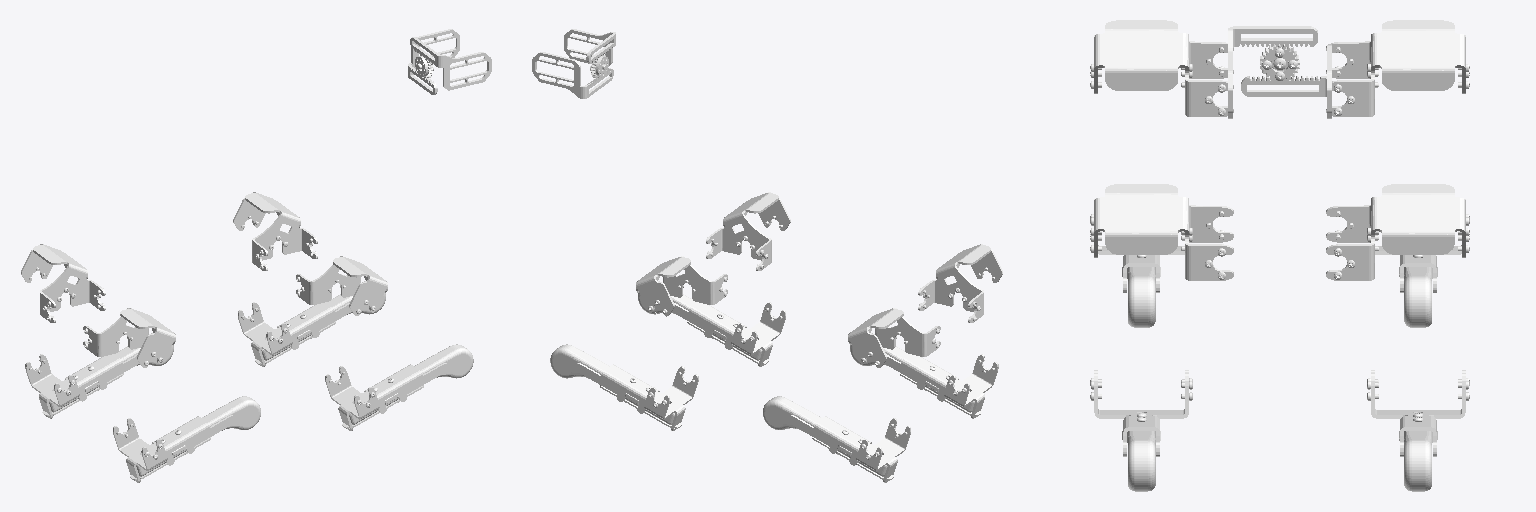
The robot description file, URDF, robot "mini2_description":
<?xml version="1.0" encoding="utf-8"?>
<!-- This URDF was automatically created by SolidWorks to URDF Exporter! Originally created by [author] ([email redacted]) 
     Commit Version: 1.6.0-1-g15f4949  Build Version: 1.6.7594.29634
     For more information, please see http://wiki.ros.org/sw_urdf_exporter -->
<robot
  name="mini2_description">
<!-- Used for fixing robot to Gazebo 'body_link' -->
  <link name="world"/>

  <joint name="world_fixed" type="fixed">
    <origin
      xyz="0 0 0.1"
      rpy="0 0 0" />
    <parent link="world"/>
    <child link="base_link"/>
  </joint>

  <link
    name="base_link">
    <inertial>
      <origin
        xyz="0.0244236973111199 -1.18543479083258E-05 0.00216186909321295"
        rpy="0 0 0" />
      <mass
        value="0.0903638663486848" />
      <inertia
        ixx="3.1165717171415E-05"
        ixy="5.90406353084212E-08"
        ixz="3.10782912189539E-07"
        iyy="0.000106657880847992"
        iyz="2.39226598820896E-09"
        izz="0.000122402395534927" />
    </inertial>
    <visual>
      <origin
        xyz="0 0 0"
        rpy="0 0 0" />
      <geometry>
        <mesh
          filename="package://mini2_description/meshes/base_link.STL" />
      </geometry>
      <material
        name="">
        <color
          rgba="1 1 1 1" />
      </material>
    </visual>
    <collision>
      <origin
        xyz="0 0 0"
        rpy="0 0 0" />
      <geometry>
        <mesh
          filename="package://mini2_description/meshes/base_link.STL" />
      </geometry>
    </collision>
  </link>
  <link name="imu_link">
    <inertial>
      <mass value="0.001"/>
      <origin rpy="0 0 0" xyz="0 0 0"/>
      <inertia ixx="1e-09" ixy="0.0" ixz="0.0" iyy="1e-09" iyz="0.0" izz="1e-09"/>
    </inertial>
  </link>
  <joint name="imu_joint" type="fixed">
    <parent link="base_link"/>
    <child link="imu_link"/>
  </joint>
  <link
    name="13_Link">
    <inertial>
      <origin
        xyz="0.0248280194388737 0.00902150780643676 0.00422313927973027"
        rpy="0 0 0" />
      <mass
        value="0.00753841426198611" />
      <inertia
        ixx="1.41466984431918E-06"
        ixy="-4.34670034449555E-07"
        ixz="-2.11581372888087E-07"
        iyy="2.57074817290843E-06"
        iyz="-9.80909593732643E-08"
        izz="2.19885431130067E-06" />
    </inertial>
    <visual>
      <origin
        xyz="0 0 0"
        rpy="0 0 0" />
      <geometry>
        <mesh
          filename="package://mini2_description/meshes/13_Link.STL" />
      </geometry>
      <material
        name="">
        <color
          rgba="1 1 1 1" />
      </material>
    </visual>
    <collision>
      <origin
        xyz="0 0 0"
        rpy="0 0 0" />
      <geometry>
        <mesh
          filename="package://mini2_description/meshes/13_Link.STL" />
      </geometry>
    </collision>
  </link>
  <joint
    name="13_Joint"
    type="continuous">
    <origin
      xyz="0.075 0.0225 0"
      rpy="1.5708 0 1.5708" />
    <parent
      link="base_link" />
    <child
      link="13_Link" />
    <axis
      xyz="0 0  1" />
  </joint>
  <link
    name="12_Link">
    <inertial>
      <origin
        xyz="0.0299500382842132 0.00278863986388048 0.000781254345677947"
        rpy="0 0 0" />
      <mass
        value="0.0113861104442955" />
      <inertia
        ixx="8.8274846767819E-07"
        ixy="1.70456968614513E-11"
        ixz="-5.54531137474986E-13"
        iyy="2.37552837358265E-06"
        iyz="2.17118765723791E-15"
        izz="2.23822862488442E-06" />
    </inertial>
    <visual>
      <origin
        xyz="0 0 0"
        rpy="0 0 0" />
      <geometry>
        <mesh
          filename="package://mini2_description/meshes/12_Link.STL" />
      </geometry>
      <material
        name="">
        <color
          rgba="1 1 1 1" />
      </material>
    </visual>
    <collision>
      <origin
        xyz="0 0 0"
        rpy="0 0 0" />
      <geometry>
        <mesh
          filename="package://mini2_description/meshes/12_Link.STL" />
      </geometry>
    </collision>
  </link>
  <joint
    name="12_Joint"
    type="continuous">
    <origin
      xyz="0.030988 0 0"
      rpy="-1.5708 0 -1.5708" />
    <parent
      link="13_Link" />
    <child
      link="12_Link" />
    <axis
      xyz="0 0  1" />
  </joint>
  <link
    name="11_Link">
    <inertial>
      <origin
        xyz="0.00664275467176662 -0.0381915924275808 -1.35558841929395E-09"
        rpy="0 0 0" />
      <mass
        value="0.0153098671259445" />
      <inertia
        ixx="7.28173977633567E-06"
        ixy="-1.72792899462682E-06"
        ixz="-4.63227423006185E-13"
        iyy="1.09060089074474E-06"
        iyz="-3.27598612704548E-13"
        izz="7.54879294562872E-06" />
    </inertial>
    <visual>
      <origin
        xyz="0 0 0"
        rpy="0 0 0" />
      <geometry>
        <mesh
          filename="package://mini2_description/meshes/11_Link.STL" />
      </geometry>
      <material
        name="">
        <color
          rgba="1 1 1 1" />
      </material>
    </visual>
    <collision>
      <origin
        xyz="0 0 0"
        rpy="0 0 0" />
      <geometry>
        <mesh
          filename="package://mini2_description/meshes/11_Link.STL" />
      </geometry>
    </collision>
  </link>
  <joint
    name="11_Joint"
    type="continuous">
    <origin
      xyz="0.0599 0 0"
      rpy="0 0 0" />
    <parent
      link="12_Link" />
    <child
      link="11_Link" />
    <axis
      xyz="0 0  1" />
  </joint>
  <link
    name="23_Link">
    <inertial>
      <origin
        xyz="-0.00902149882128787 -0.0248280149220554 0.00422313254240891"
        rpy="0 0 0" />
      <mass
        value="0.00753841291835744" />
      <inertia
        ixx="2.57074897217913E-06"
        ixy="-4.34670427001712E-07"
        ixz="9.80904660290261E-08"
        iyy="1.41466883651307E-06"
        iyz="2.1158163905561E-07"
        izz="2.19885444494647E-06" />
    </inertial>
    <visual>
      <origin
        xyz="0 0 0"
        rpy="0 0 0" />
      <geometry>
        <mesh
          filename="package://mini2_description/meshes/23_Link.STL" />
      </geometry>
      <material
        name="">
        <color
          rgba="1 1 1 1" />
      </material>
    </visual>
    <collision>
      <origin
        xyz="0 0 0"
        rpy="0 0 0" />
      <geometry>
        <mesh
          filename="package://mini2_description/meshes/23_Link.STL" />
      </geometry>
    </collision>
  </link>
  <joint
    name="23_Joint"
    type="continuous">
    <origin
      xyz="0.075 -0.0225000398533523 0"
      rpy="0 1.5707963267949 0" />
    <parent
      link="base_link" />
    <child
      link="23_Link" />
    <axis
      xyz="0 0  1" />
  </joint>
  <link
    name="22_Link">
    <inertial>
      <origin
        xyz="0.0299500195755494 0.00278865061118515 -0.000781232629103762"
        rpy="0 0 0" />
      <mass
        value="0.0113861476387173" />
      <inertia
        ixx="8.82741917396447E-07"
        ixy="2.2691552768709E-11"
        ixz="-4.90122018356969E-13"
        iyy="2.37552727000979E-06"
        iyz="5.55387173553793E-15"
        izz="2.23823235437804E-06" />
    </inertial>
    <visual>
      <origin
        xyz="0 0 0"
        rpy="0 0 0" />
      <geometry>
        <mesh
          filename="package://mini2_description/meshes/22_Link.STL" />
      </geometry>
      <material
        name="">
        <color
          rgba="1 1 1 1" />
      </material>
    </visual>
    <collision>
      <origin
        xyz="0 0 0"
        rpy="0 0 0" />
      <geometry>
        <mesh
          filename="package://mini2_description/meshes/22_Link.STL" />
      </geometry>
    </collision>
  </link>
  <joint
    name="22_Joint"
    type="continuous">
    <origin
      xyz="0 -0.0309880541805861 0"
      rpy="-1.57079632679488 0 0" />
    <parent
      link="23_Link" />
    <child
      link="22_Link" />
    <axis
      xyz="0 0  1" />
  </joint>
  <link
    name="21_Link">
    <inertial>
      <origin
        xyz="0.00664275942926147 -0.0381915727668842 -1.39671030158217E-08"
        rpy="0 0 0" />
      <mass
        value="0.0153098502146296" />
      <inertia
        ixx="7.28173660879263E-06"
        ixy="-1.72792711230226E-06"
        ixz="-8.97883517326497E-13"
        iyy="1.09060159443016E-06"
        iyz="-4.59761514938139E-12"
        izz="7.54879088872956E-06" />
    </inertial>
    <visual>
      <origin
        xyz="0 0 0"
        rpy="0 0 0" />
      <geometry>
        <mesh
          filename="package://mini2_description/meshes/21_Link.STL" />
      </geometry>
      <material
        name="">
        <color
          rgba="1 1 1 1" />
      </material>
    </visual>
    <collision>
      <origin
        xyz="0 0 0"
        rpy="0 0 0" />
      <geometry>
        <mesh
          filename="package://mini2_description/meshes/21_Link.STL" />
      </geometry>
    </collision>
  </link>
  <joint
    name="21_Joint"
    type="continuous">
    <origin
      xyz="0.0599000797066995 0 0"
      rpy="0 0 0" />
    <parent
      link="22_Link" />
    <child
      link="21_Link" />
    <axis
      xyz="0 0  1" />
  </joint>
  <link
    name="33_Link">
    <inertial>
      <origin
        xyz="-0.00902149882128814 -0.0248280149220534 0.00422313254241374"
        rpy="0 0 0" />
      <mass
        value="0.00753841291835745" />
      <inertia
        ixx="2.57074897217914E-06"
        ixy="-4.34670427001711E-07"
        ixz="9.80904660290273E-08"
        iyy="1.41466883651307E-06"
        iyz="2.11581639055611E-07"
        izz="2.19885444494647E-06" />
    </inertial>
    <visual>
      <origin
        xyz="0 0 0"
        rpy="0 0 0" />
      <geometry>
        <mesh
          filename="package://mini2_description/meshes/33_Link.STL" />
      </geometry>
      <material
        name="">
        <color
          rgba="1 1 1 1" />
      </material>
    </visual>
    <collision>
      <origin
        xyz="0 0 0"
        rpy="0 0 0" />
      <geometry>
        <mesh
          filename="package://mini2_description/meshes/33_Link.STL" />
      </geometry>
    </collision>
  </link>
  <joint
    name="33_Joint"
    type="continuous">
    <origin
      xyz="-0.075 -0.0225000398533512 0"
      rpy="0 1.5707963267949 0" />
    <parent
      link="base_link" />
    <child
      link="33_Link" />
    <axis
      xyz="0 0  1" />
  </joint>
  <link
    name="32_Link">
    <inertial>
      <origin
        xyz="0.0299500359079056 0.00278865255150929 -0.000781238975794393"
        rpy="0 0 0" />
      <mass
        value="0.0113861392484884" />
      <inertia
        ixx="8.82741864071183E-07"
        ixy="2.26994650204806E-11"
        ixz="-5.36563810036175E-13"
        iyy="2.37552718141011E-06"
        iyz="1.08306138546267E-15"
        izz="2.23823228203629E-06" />
    </inertial>
    <visual>
      <origin
        xyz="0 0 0"
        rpy="0 0 0" />
      <geometry>
        <mesh
          filename="package://mini2_description/meshes/32_Link.STL" />
      </geometry>
      <material
        name="">
        <color
          rgba="1 1 1 1" />
      </material>
    </visual>
    <collision>
      <origin
        xyz="0 0 0"
        rpy="0 0 0" />
      <geometry>
        <mesh
          filename="package://mini2_description/meshes/32_Link.STL" />
      </geometry>
    </collision>
  </link>
  <joint
    name="32_Joint"
    type="continuous">
    <origin
      xyz="0 -0.0309880541805845 0"
      rpy="-1.57079632679488 0 0" />
    <parent
      link="33_Link" />
    <child
      link="32_Link" />
    <axis
      xyz="0 0  1" />
  </joint>
  <link
    name="31_Link">
    <inertial>
      <origin
        xyz="0.00664275942886895 -0.0381915727801102 -1.39647855362801E-08"
        rpy="0 0 0" />
      <mass
        value="0.0153098502269143" />
      <inertia
        ixx="7.28173661196616E-06"
        ixy="-1.72792711238622E-06"
        ixz="-8.97900888843362E-13"
        iyy="1.09060159455208E-06"
        iyz="-4.59704907889622E-12"
        izz="7.54879089188839E-06" />
    </inertial>
    <visual>
      <origin
        xyz="0 0 0"
        rpy="0 0 0" />
      <geometry>
        <mesh
          filename="package://mini2_description/meshes/31_Link.STL" />
      </geometry>
      <material
        name="">
        <color
          rgba="1 1 1 1" />
      </material>
    </visual>
    <collision>
      <origin
        xyz="0 0 0"
        rpy="0 0 0" />
      <geometry>
        <mesh
          filename="package://mini2_description/meshes/31_Link.STL" />
      </geometry>
    </collision>
  </link>
  <joint
    name="31_Joint"
    type="continuous">
    <origin
      xyz="0.0599000797066995 0 0"
      rpy="0 0 0" />
    <parent
      link="32_Link" />
    <child
      link="31_Link" />
    <axis
      xyz="0 0  1" />
  </joint>
  <link
    name="43_Link">
    <inertial>
      <origin
        xyz="-0.00902150780643703 0.0248280194388716 0.00422313927973639"
        rpy="0 0 0" />
      <mass
        value="0.00753841426198606" />
      <inertia
        ixx="2.57074817290842E-06"
        ixy="4.34670034449559E-07"
        ixz="9.80909593732633E-08"
        iyy="1.41466984431917E-06"
        iyz="-2.11581372888085E-07"
        izz="2.19885431130066E-06" />
    </inertial>
    <visual>
      <origin
        xyz="0 0 0"
        rpy="0 0 0" />
      <geometry>
        <mesh
          filename="package://mini2_description/meshes/43_Link.STL" />
      </geometry>
      <material
        name="">
        <color
          rgba="1 1 1 1" />
      </material>
    </visual>
    <collision>
      <origin
        xyz="0 0 0"
        rpy="0 0 0" />
      <geometry>
        <mesh
          filename="package://mini2_description/meshes/43_Link.STL" />
      </geometry>
    </collision>
  </link>
  <joint
    name="43_Joint"
    type="continuous">
    <origin
      xyz="-0.075 0.0225000398533488 0"
      rpy="0 1.5707963267949 0" />
    <parent
      link="base_link" />
    <child
      link="43_Link" />
    <axis
      xyz="0 0  1" />
  </joint>
  <link
    name="42_Link">
    <inertial>
      <origin
        xyz="0.0299500438125054 0.00278863921174038 0.000781256348017623"
        rpy="0 0 0" />
      <mass
        value="0.0113861123425769" />
      <inertia
        ixx="8.82748501091515E-07"
        ixy="1.69846167849517E-11"
        ixz="-5.16154756727328E-13"
        iyy="2.37552845343969E-06"
        iyz="7.26530034557828E-16"
        izz="2.23822873857817E-06" />
    </inertial>
    <visual>
      <origin
        xyz="0 0 0"
        rpy="0 0 0" />
      <geometry>
        <mesh
          filename="package://mini2_description/meshes/42_Link.STL" />
      </geometry>
      <material
        name="">
        <color
          rgba="1 1 1 1" />
      </material>
    </visual>
    <collision>
      <origin
        xyz="0 0 0"
        rpy="0 0 0" />
      <geometry>
        <mesh
          filename="package://mini2_description/meshes/42_Link.STL" />
      </geometry>
    </collision>
  </link>
  <joint
    name="42_Joint"
    type="continuous">
    <origin
      xyz="0 0.03098805418059 0"
      rpy="-1.57079632679488 0 0" />
    <parent
      link="43_Link" />
    <child
      link="42_Link" />
    <axis
      xyz="0 0  1" />
  </joint>
  <link
    name="41_Link">
    <inertial>
      <origin
        xyz="0.00664275467193516 -0.0381915928444575 -1.28866987914034E-09"
        rpy="0 0 0" />
      <mass
        value="0.0153098673781372" />
      <inertia
        ixx="7.28173993438346E-06"
        ixy="-1.72792899593328E-06"
        ixz="-4.629564354771E-13"
        iyy="1.09060089512517E-06"
        iyz="-3.01324069572266E-13"
        izz="7.54879309900224E-06" />
    </inertial>
    <visual>
      <origin
        xyz="0 0 0"
        rpy="0 0 0" />
      <geometry>
        <mesh
          filename="package://mini2_description/meshes/41_Link.STL" />
      </geometry>
      <material
        name="">
        <color
          rgba="1 1 1 1" />
      </material>
    </visual>
    <collision>
      <origin
        xyz="0 0 0"
        rpy="0 0 0" />
      <geometry>
        <mesh
          filename="package://mini2_description/meshes/41_Link.STL" />
      </geometry>
    </collision>
  </link>
  <joint
    name="41_Joint"
    type="continuous">
    <origin
      xyz="0.0599000797066993 0 0"
      rpy="0 0 0" />
    <parent
      link="42_Link" />
    <child
      link="41_Link" />
    <axis
      xyz="0 0  1" />
  </joint>
  <link
    name="53_Link">
    <inertial>
      <origin
        xyz="-0.0299500408748984 0.00278863968474263 0.000756254106578605"
        rpy="0 0 0" />
      <mass
        value="0.0113861109184074" />
      <inertia
        ixx="8.8274847658028E-07"
        ixy="1.70465094959684E-11"
        ixz="-5.53980250412205E-13"
        iyy="2.37552837874193E-06"
        iyz="2.679275013287E-15"
        izz="2.23822863876479E-06" />
    </inertial>
    <visual>
      <origin
        xyz="0 0 0"
        rpy="3.1416 0 0" />
      <geometry>
        <mesh
          filename="package://mini2_description/meshes/53_Link.STL" />
      </geometry>
      <material
        name="">
        <color
          rgba="1 1 1 1" />
      </material>
    </visual>
    <collision>
      <origin
        xyz="0 0 0"
        rpy="0 0 0" />
      <geometry>
        <mesh
          filename="package://mini2_description/meshes/53_Link.STL" />
      </geometry>
    </collision>
  </link>
  <joint
    name="53_Joint"
    type="continuous">
    <origin
      xyz="0.0817510268642972 0 0.0378543330962328"
      rpy="1.57079632679488 1.5707963267949 0" />
    <parent
      link="base_link" />
    <child
      link="53_Link" />
    <axis
      xyz="0 0  1" />
  </joint>
  <link
    name="52_Link">
    <inertial>
      <origin
        xyz="-0.0187892739076206 -0.0338603318634318 -3.92639937411808E-05"
        rpy="0 0 0" />
      <mass
        value="0.0148330426207503" />
      <inertia
        ixx="3.01305231852195E-06"
        ixy="-2.65003761424246E-07"
        ixz="8.46914201667833E-12"
        iyy="1.09918857594476E-06"
        iyz="-4.9217583562805E-12"
        izz="3.06331536234519E-06" />
    </inertial>
    <visual>
      <origin
        xyz="0 0 0"
        rpy="0 0 0" />
      <geometry>
        <mesh
          filename="package://mini2_description/meshes/52_Link.STL" />
      </geometry>
      <material
        name="">
        <color
          rgba="1 1 1 1" />
      </material>
    </visual>
    <collision>
      <origin
        xyz="0 0 0"
        rpy="0 0 0" />
      <geometry>
        <mesh
          filename="package://mini2_description/meshes/52_Link.STL" />
      </geometry>
    </collision>
  </link>
  <joint
    name="52_Joint"
    type="continuous">
    <origin
      xyz="-0.0599000797066993 0 0"
      rpy="3.1416 0 0" />
    <parent
      link="53_Link" />
    <child
      link="52_Link" />
    <axis
      xyz="0 0  1" />
  </joint>
  <link
    name="51_Link">
    <inertial>
      <origin
        xyz="-1.16778674230655E-09 -2.04686758167871E-09 -0.00208665364177515"
        rpy="0 0 0" />
      <mass
        value="0.000719672080560025" />
      <inertia
        ixx="8.90538782569087E-09"
        ixy="-4.86887856334375E-13"
        ixz="5.07468190192859E-16"
        iyy="8.90502666587485E-09"
        iyz="6.11687760319459E-16"
        izz="1.59175104815061E-08" />
    </inertial>
    <visual>
      <origin
        xyz="0 0 0"
        rpy="0 0 0" />
      <geometry>
        <mesh
          filename="package://mini2_description/meshes/51_Link.STL" />
      </geometry>
      <material
        name="">
        <color
          rgba="1 1 1 1" />
      </material>
    </visual>
    <collision>
      <origin
        xyz="0 0 0"
        rpy="0 0 0" />
      <geometry>
        <mesh
          filename="package://mini2_description/meshes/51_Link.STL" />
      </geometry>
    </collision>
  </link>
  <joint
    name="51_Joint"
    type="continuous">
    <origin
      xyz="-0.018371 -0.0783 -2.5E-05"
      rpy="-1.5708 0 -3.1416" />
    <parent
      link="52_Link" />
    <child
      link="51_Link" />
    <axis
      xyz="0 0  1" />
  </joint>
  <link
    name="50_Link">
    <inertial>
      <origin
        xyz="-0.00459436196189859 0.00983058256711414 0.00450764373303642"
        rpy="0 0 0" />
      <mass
        value="0.00096518203674629" />
      <inertia
        ixx="2.28634282389431E-07"
        ixy="4.37714130906999E-08"
        ixz="3.29944701810298E-08"
        iyy="1.47678770055442E-07"
        iyz="-5.64255427630419E-08"
        izz="1.91146220698636E-07" />
    </inertial>
    <visual>
      <origin
        xyz="0 0 0"
        rpy="0 0 0" />
      <geometry>
        <mesh
          filename="package://mini2_description/meshes/50_Link.STL" />
      </geometry>
      <material
        name="">
        <color
          rgba="1 1 1 1" />
      </material>
    </visual>
    <collision>
      <origin
        xyz="0 0 0"
        rpy="0 0 0" />
      <geometry>
        <mesh
          filename="package://mini2_description/meshes/50_Link.STL" />
      </geometry>
    </collision>
  </link>
  <joint
    name="50_Joint"
    type="prismatic">
    <origin
      xyz="-0.018371 -0.096345 -0.018125"
      rpy="0 0 0" />
    <parent
      link="52_Link" />
    <child
      link="50_Link" />
    <axis
      xyz="0 0 1" />
    <limit
      lower="0"
      upper="0"
      effort="0"
      velocity="0" />
    <mimic
      joint="51_Joint"
      multiplier="0.072"
      offset="0" />
  </joint>
  <link
    name="500_Link">
    <inertial>
      <origin
        xyz="0.00459436196189864 0.00983058256711407 -0.0045076437330364"
        rpy="0 0 0" />
      <mass
        value="0.000965182036746288" />
      <inertia
        ixx="2.28634282389431E-07"
        ixy="-4.37714130906999E-08"
        ixz="3.299447018103E-08"
        iyy="1.47678770055441E-07"
        iyz="5.64255427630418E-08"
        izz="1.91146220698636E-07" />
    </inertial>
    <visual>
      <origin
        xyz="0 0 0"
        rpy="0 0 0" />
      <geometry>
        <mesh
          filename="package://mini2_description/meshes/500_Link.STL" />
      </geometry>
      <material
        name="">
        <color
          rgba="1 1 1 1" />
      </material>
    </visual>
    <collision>
      <origin
        xyz="0 0 0"
        rpy="0 0 0" />
      <geometry>
        <mesh
          filename="package://mini2_description/meshes/500_Link.STL" />
      </geometry>
    </collision>
  </link>
  <joint
    name="500_Joint"
    type="prismatic">
    <origin
      xyz="-0.018371 -0.096345 0.018075"
      rpy="0 0 0" />
    <parent
      link="52_Link" />
    <child
      link="500_Link" />
    <axis
      xyz="0 0 1" />
    <limit
      lower="0"
      upper="0"
      effort="0"
      velocity="0" />
    <mimic
      joint="51_Joint"
      multiplier="-0.072"
      offset="0" />
  </joint>
</robot>

--- Facts derived from the render (not from the file) ---
The picture shows the robot from 3 angles, left to right: view 1: azimuth 30°, elevation 25°; view 2: azimuth 150°, elevation 25°; view 3: azimuth 270°, elevation 25°; orthographic projection.
Robot: mini2_description — 20 links, 19 joints (15 continuous, 2 prismatic, 2 fixed); root link world; default pose: all joints at 0.
Links seen in each view (by area): view 1: 21_Link, 31_Link, 11_Link, 41_Link, 13_Link, 43_Link, 33_Link, 23_Link, 50_Link, 500_Link; view 2: 11_Link, 41_Link, 21_Link, 31_Link, 23_Link, 33_Link, 43_Link, 13_Link, 500_Link, 50_Link; view 3: 13_Link, 23_Link, 43_Link, 33_Link, 11_Link, 21_Link, 31_Link, 41_Link, 50_Link, 500_Link, 51_Link.
Boxes of the visible links, x1=… form: 21_Link: x1=325, y1=344, x2=473, y2=430; 31_Link: x1=113, y1=396, x2=260, y2=482; 11_Link: x1=238, y1=281, x2=385, y2=366; 41_Link: x1=25, y1=333, x2=173, y2=418; 13_Link: x1=233, y1=192, x2=317, y2=270; 43_Link: x1=21, y1=244, x2=105, y2=322; 33_Link: x1=83, y1=308, x2=175, y2=367; 23_Link: x1=296, y1=256, x2=387, y2=315; 50_Link: x1=410, y1=37, x2=491, y2=90; 500_Link: x1=408, y1=29, x2=459, y2=94; 11_Link: x1=550, y1=344, x2=698, y2=430; 41_Link: x1=763, y1=396, x2=910, y2=482; 21_Link: x1=638, y1=281, x2=785, y2=366; 31_Link: x1=850, y1=333, x2=998, y2=418; 23_Link: x1=706, y1=192, x2=790, y2=270; 33_Link: x1=918, y1=244, x2=1002, y2=322; 43_Link: x1=848, y1=308, x2=940, y2=367; 13_Link: x1=636, y1=256, x2=727, y2=316; 500_Link: x1=532, y1=52, x2=613, y2=98; 50_Link: x1=564, y1=29, x2=615, y2=65; 13_Link: x1=1326, y1=184, x2=1469, y2=280; 23_Link: x1=1090, y1=184, x2=1233, y2=280; 43_Link: x1=1326, y1=20, x2=1469, y2=116; 33_Link: x1=1090, y1=20, x2=1233, y2=116; 11_Link: x1=1367, y1=370, x2=1469, y2=491; 21_Link: x1=1090, y1=370, x2=1192, y2=491; 31_Link: x1=1090, y1=214, x2=1184, y2=327; 41_Link: x1=1375, y1=214, x2=1469, y2=327; 50_Link: x1=1228, y1=26, x2=1317, y2=118; 500_Link: x1=1241, y1=45, x2=1331, y2=118; 51_Link: x1=1260, y1=44, x2=1299, y2=82.
Bounding box of the posed robot: 0.2887 × 0.1468 × 0.2187 m (x, y, z).
Meshes: 18 distinct files referenced, 11 mesh visuals loaded (11 binary STL); not drawn: 7 (reference not matched to a file when rendering).